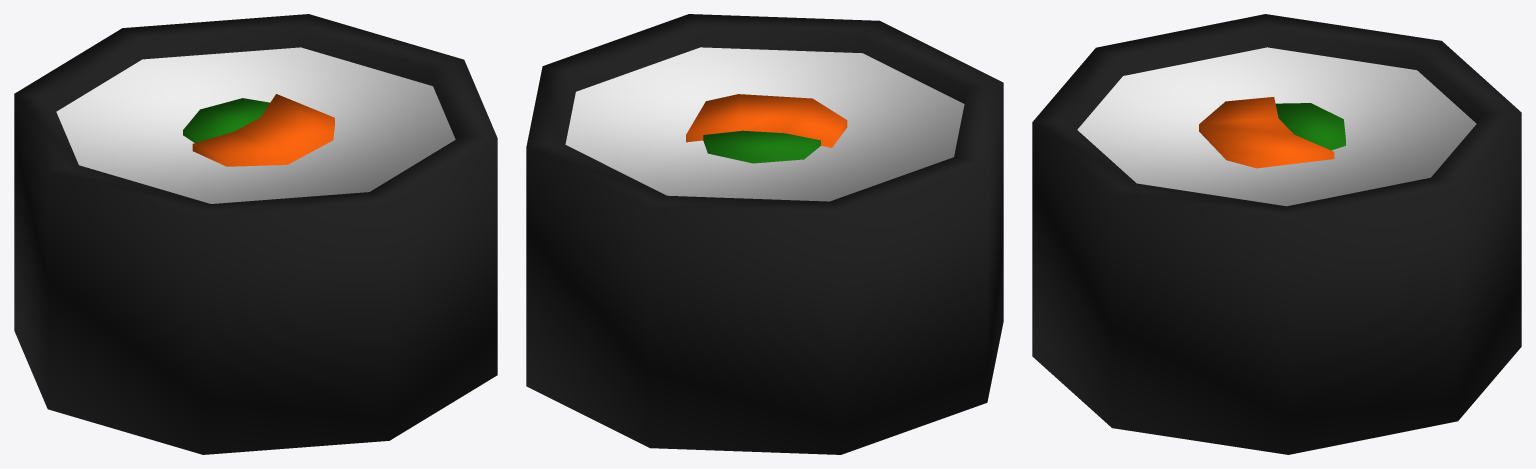
File: SushiRoll.fbx
The picture shows the model from 3 angles, left to right: view 1: azimuth 30°, elevation 25°; view 2: azimuth 150°, elevation 25°; view 3: azimuth 270°, elevation 25°; orthographic projection. The views are drawn at different scales.
Parts seen in each view (by area): view 1: Sushi_Roll1; view 2: Sushi_Roll1; view 3: Sushi_Roll1.
Part boxes in pixels (<box>): Sushi_Roll1: <box>14,14,497,454</box>; Sushi_Roll1: <box>526,14,1003,454</box>; Sushi_Roll1: <box>1032,14,1521,454</box>.
Size of the model in its own units: 1.37 by 0.7219 by 1.37.
